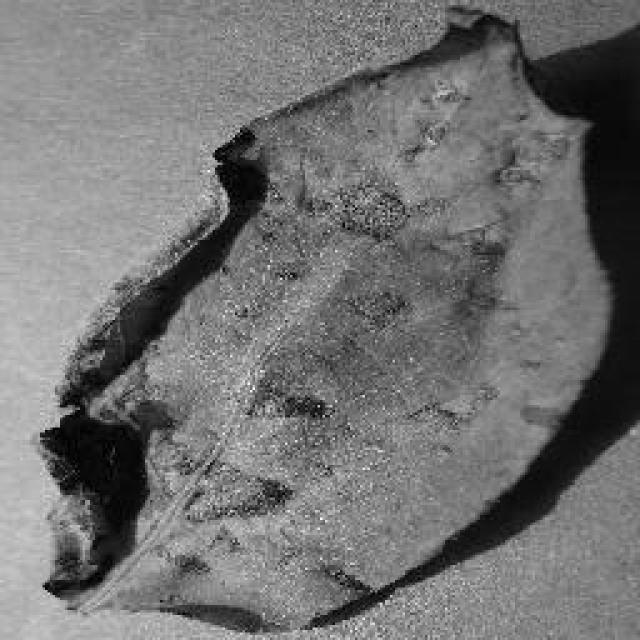Potato: (37, 5, 615, 633)
